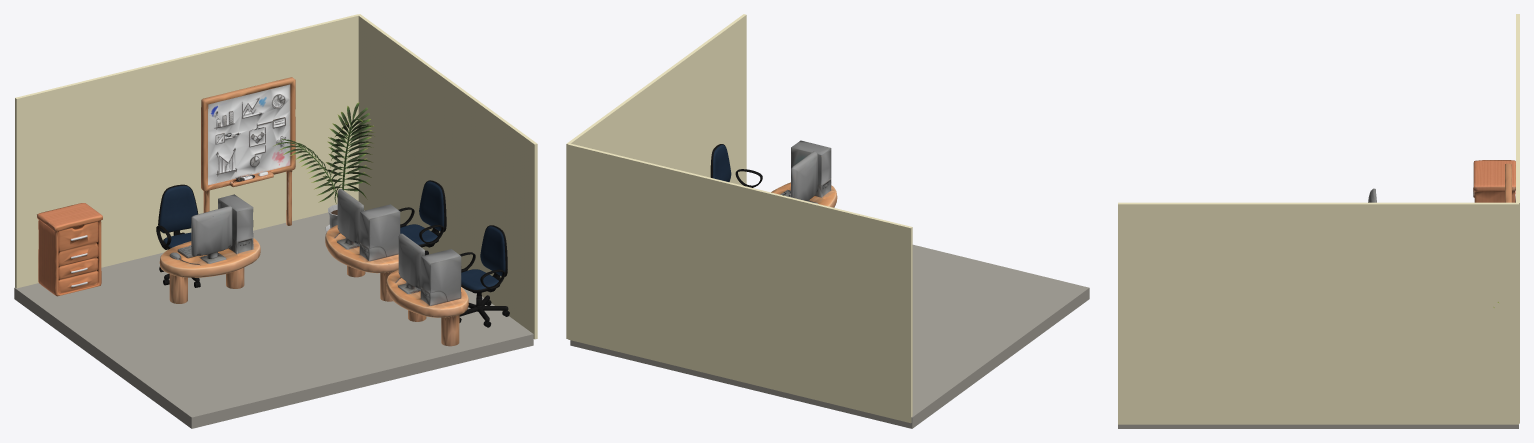
The model's file is contaduria.glb.
The picture shows the model from 3 angles, left to right: view 1: azimuth 30°, elevation 25°; view 2: azimuth 150°, elevation 25°; view 3: azimuth 270°, elevation 25°; orthographic projection. The views are drawn at different scales.
Parts seen in each view (by area): view 1: Cube, Cube.001, Cube.002, Mesh1.0, Mesh_0.002, Mesh_0.003, Mesh_0, Mesh_0.001, LP_Chunk_00.006, LP_Chunk_00.002_Material_Base_0.002, LP_Chunk_00.002, LP_Chunk_00.002_Material_Base_0.001; view 2: Cube.001, Cube, Cube.002, Mesh_0.003, LP_Chunk_00.002_Material_Base_0.002; view 3: Cube.002, Cube, Mesh_0, Cube.001.
Boxes of the visible parts, x1,y1,x2,y2 form: Cube: [14, 210, 533, 428]; Cube.001: [15, 14, 359, 288]; Cube.002: [358, 14, 537, 339]; Mesh1.0: [201, 77, 295, 225]; Mesh_0.002: [159, 194, 260, 303]; Mesh_0.003: [386, 233, 468, 346]; Mesh_0: [37, 203, 102, 296]; Mesh_0.001: [325, 189, 400, 301]; LP_Chunk_00.006: [273, 102, 374, 231]; LP_Chunk_00.002_Material_Base_0.002: [459, 225, 509, 327]; LP_Chunk_00.002: [156, 184, 200, 287]; LP_Chunk_00.002_Material_Base_0.001: [398, 180, 446, 255]; Cube.001: [568, 143, 912, 423]; Cube: [570, 244, 1089, 428]; Cube.002: [566, 14, 746, 338]; Mesh_0.003: [771, 140, 837, 207]; LP_Chunk_00.002_Material_Base_0.002: [710, 144, 762, 187]; Cube.002: [1118, 202, 1518, 424]; Cube: [1118, 424, 1518, 428]; Mesh_0: [1473, 160, 1515, 202]; Cube.001: [1516, 14, 1519, 423].
Bounding box in the file's own units: 14.06 × 7.74 × 12.43.
12 materials, 9 textured.
